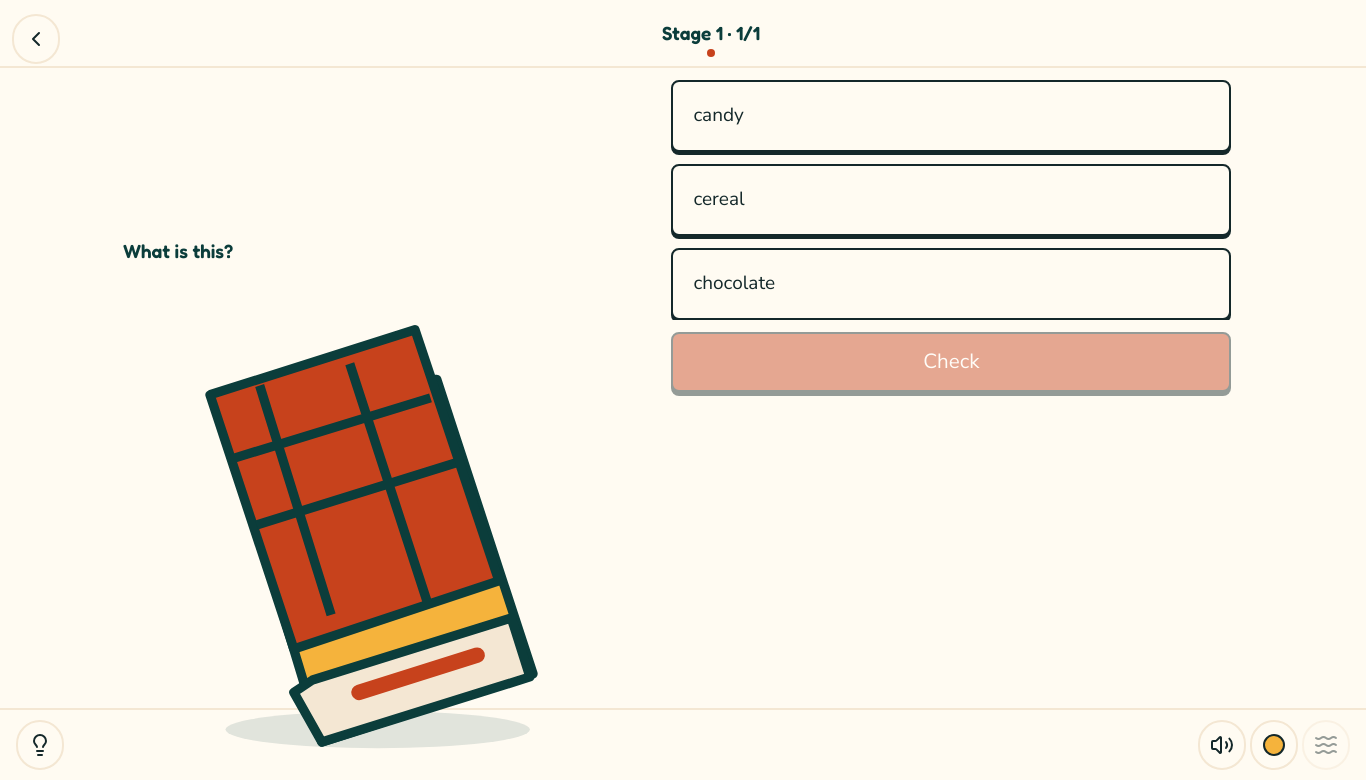
Test case: audio and controls › replaces feedback with the same shuffled choices on retry
Click the button "candy".
click(719, 115)  # box [671,80,1231,152]
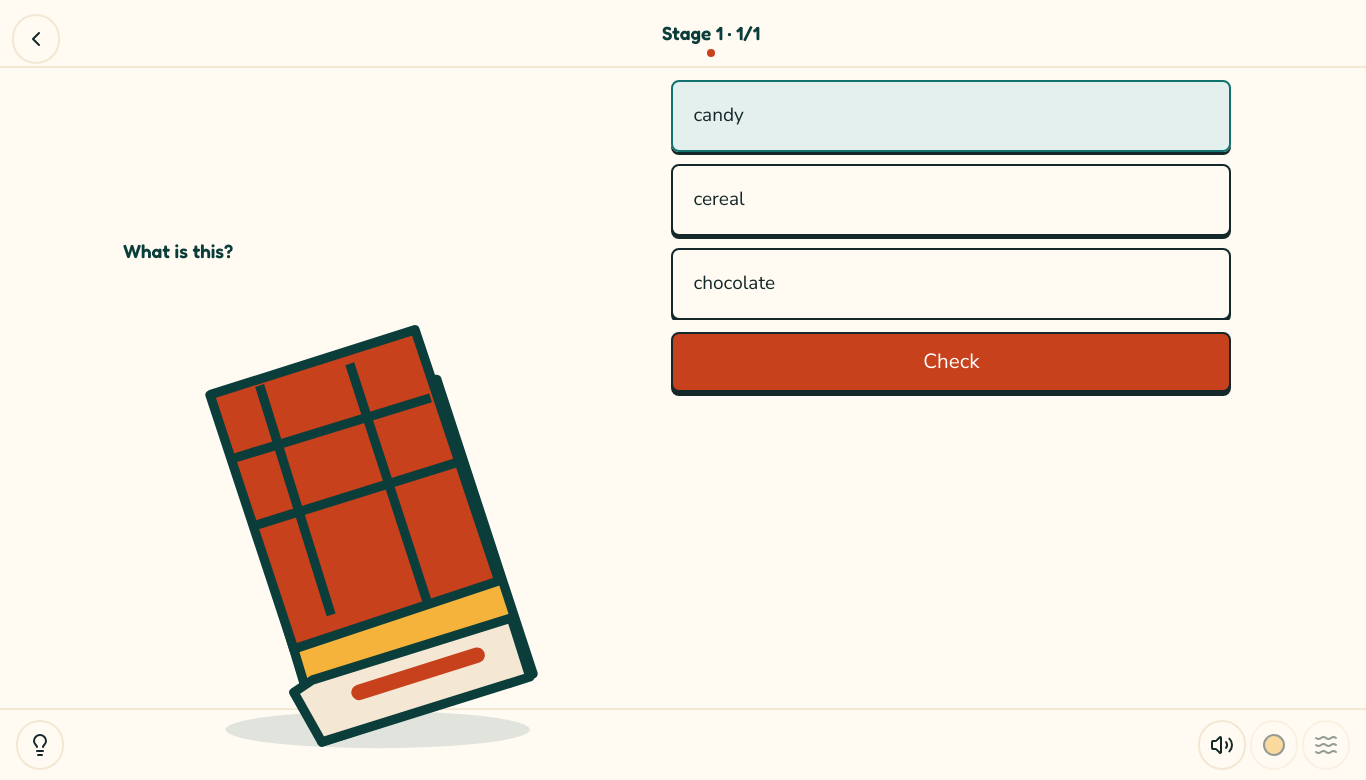
Click the button "Check".
click(951, 362)  # box [671,332,1231,392]
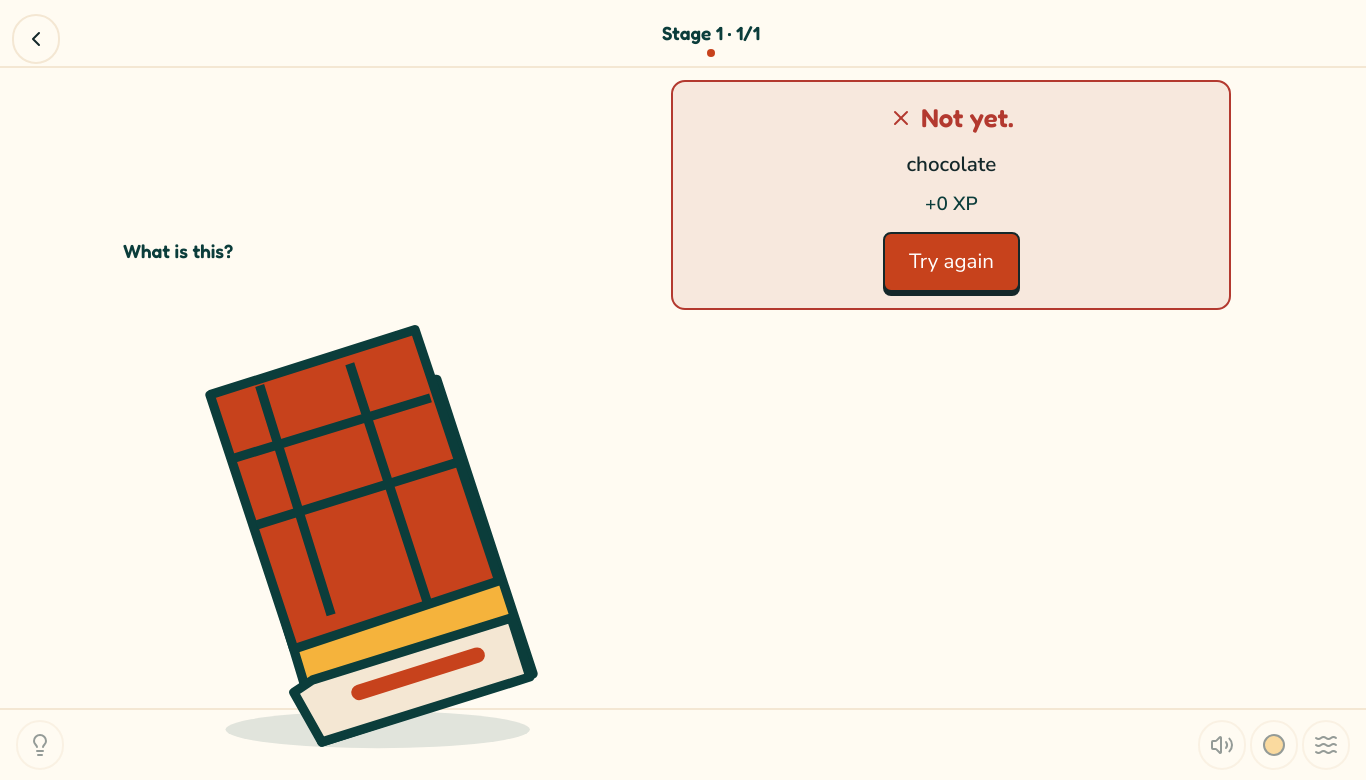
Click the button "Try again".
click(951, 262)  # box [883,232,1020,292]
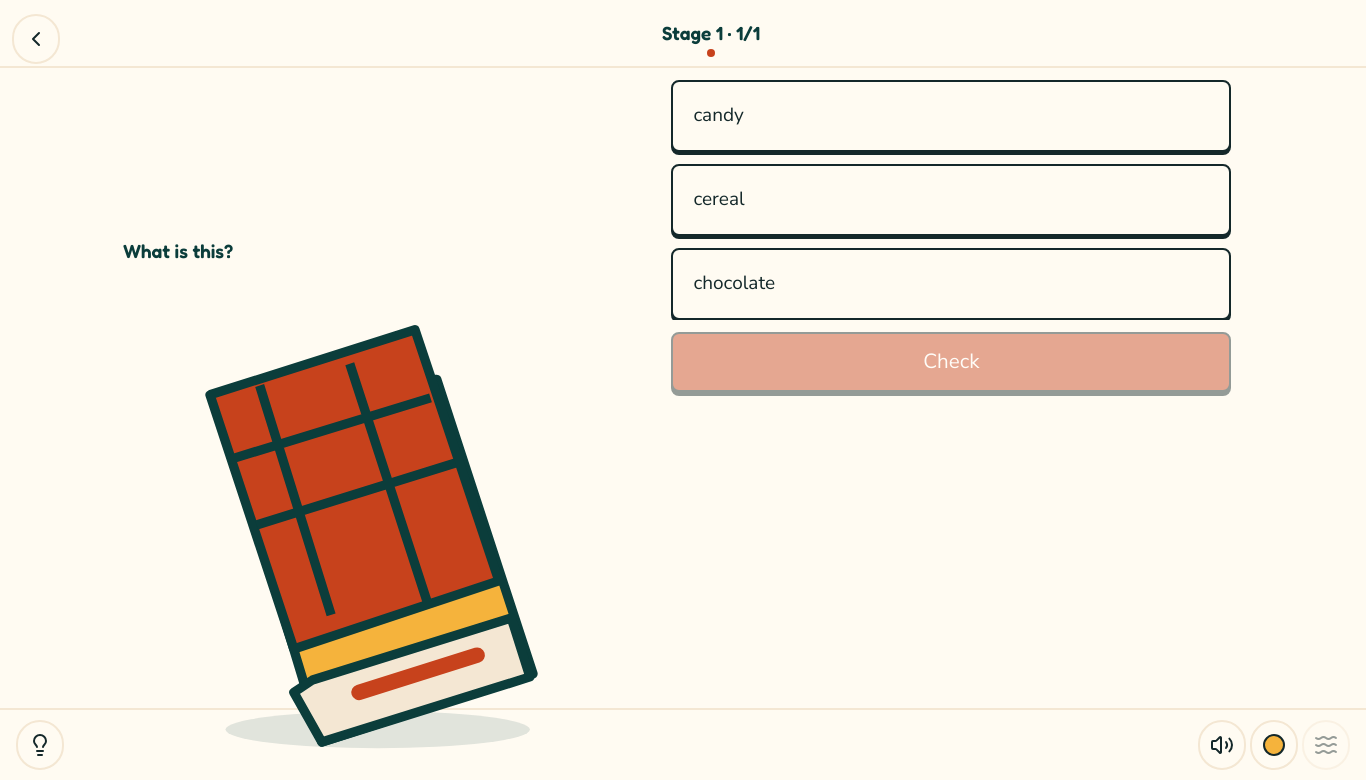
Result: the text "Not yet." is gone
